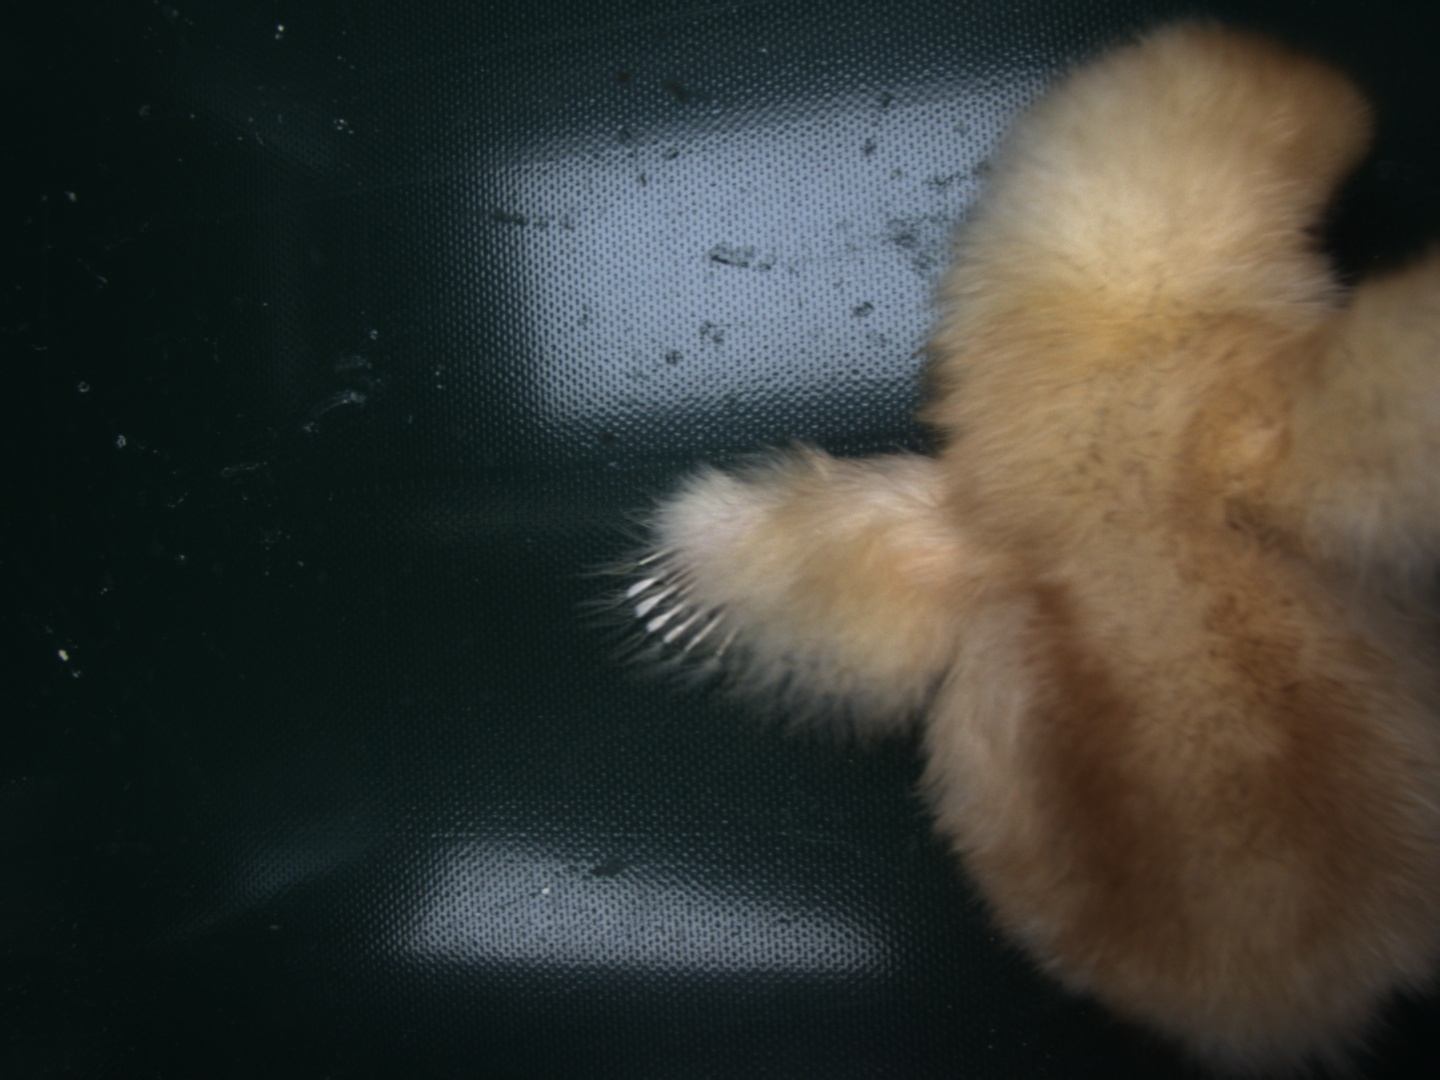female: (621, 535, 751, 668)
